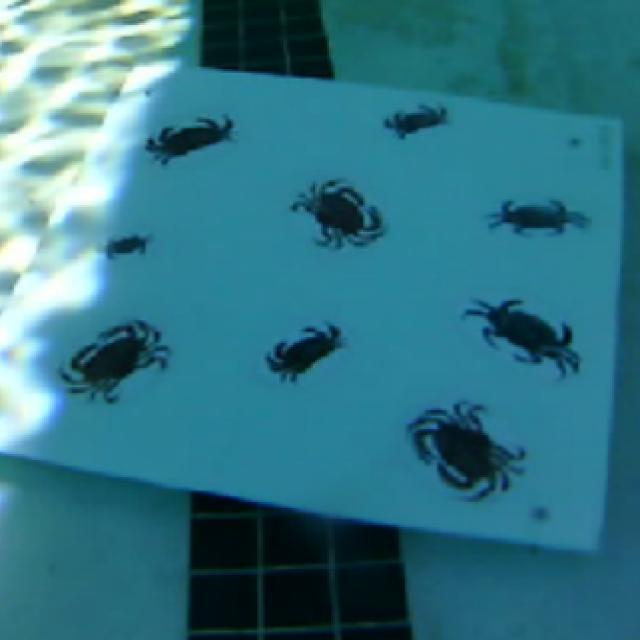green_crab: (452, 289, 592, 390), (482, 188, 594, 253), (91, 230, 166, 262)
jonah_crab: (47, 312, 182, 415), (396, 406, 530, 500), (286, 167, 392, 260)
rock_crab: (261, 315, 357, 395), (143, 108, 245, 174), (380, 102, 458, 144)
